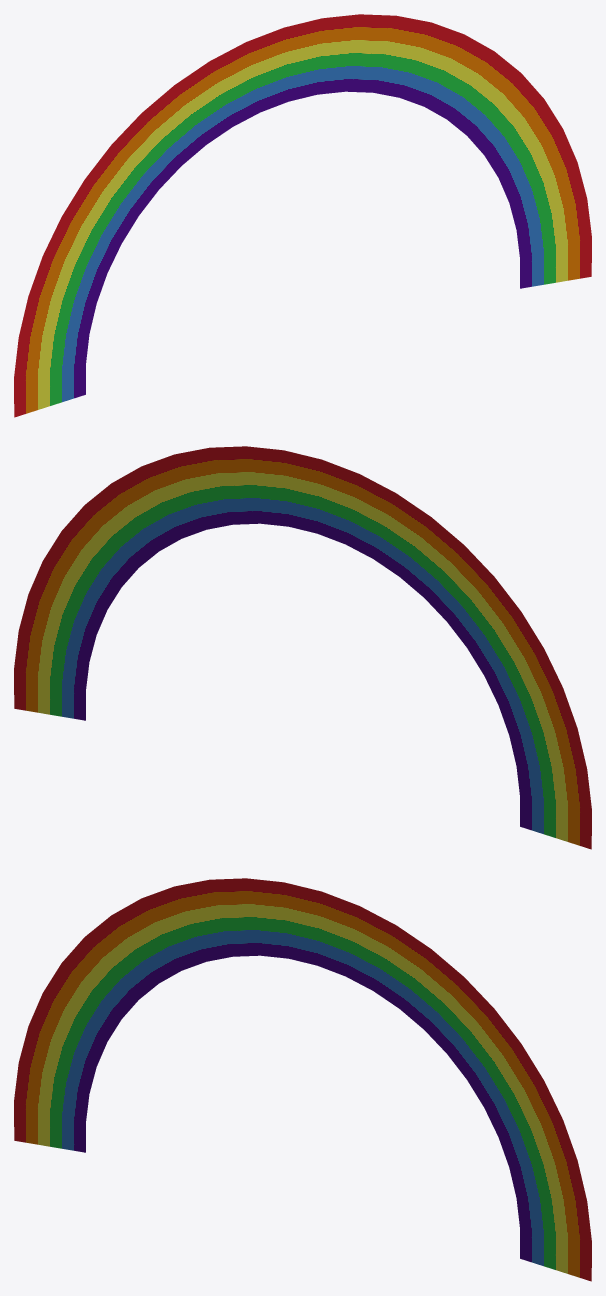
The model's file is rainbow.fbx.
3 renders of one model, top to bottom at view 1: azimuth 30°, elevation 25°; view 2: azimuth 150°, elevation 25°; view 3: azimuth 330°, elevation 25°, orthographic.
Visible parts, largest first — view 1: rainbow; view 2: rainbow; view 3: rainbow.
Part boxes in pixels (x1=…): rainbow: x1=14, y1=14, x2=591, y2=417; rainbow: x1=14, y1=446, x2=591, y2=849; rainbow: x1=14, y1=878, x2=591, y2=1281.
Size of the model in its own units: 1604 by 860 by 0.000178.
